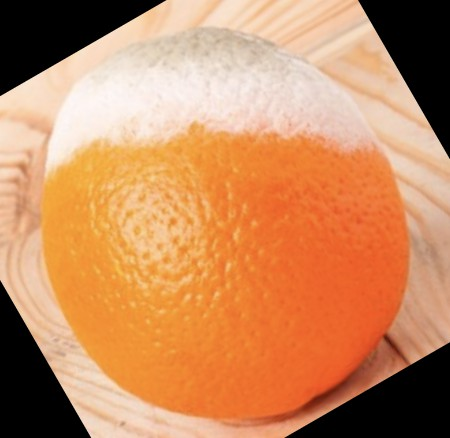rotten_orange: (41, 27, 410, 418)
